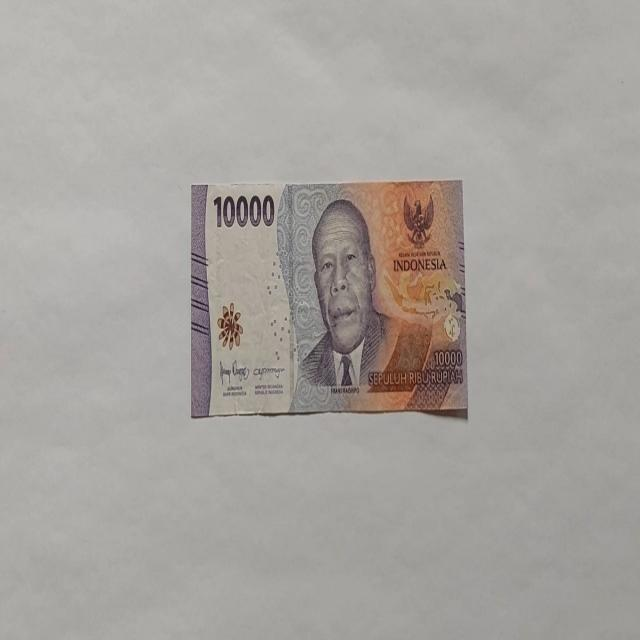sepuluh ribu rupiah: (190, 178, 468, 418), (289, 196, 436, 410)
